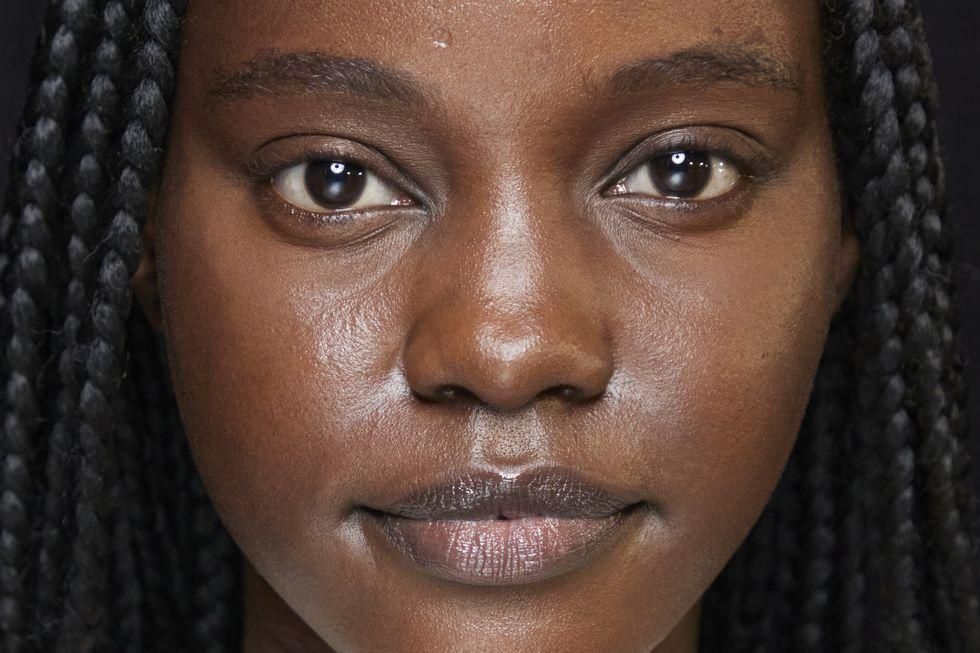Oily-Skin: (263, 257, 430, 416), (463, 157, 574, 340), (605, 239, 704, 434)
